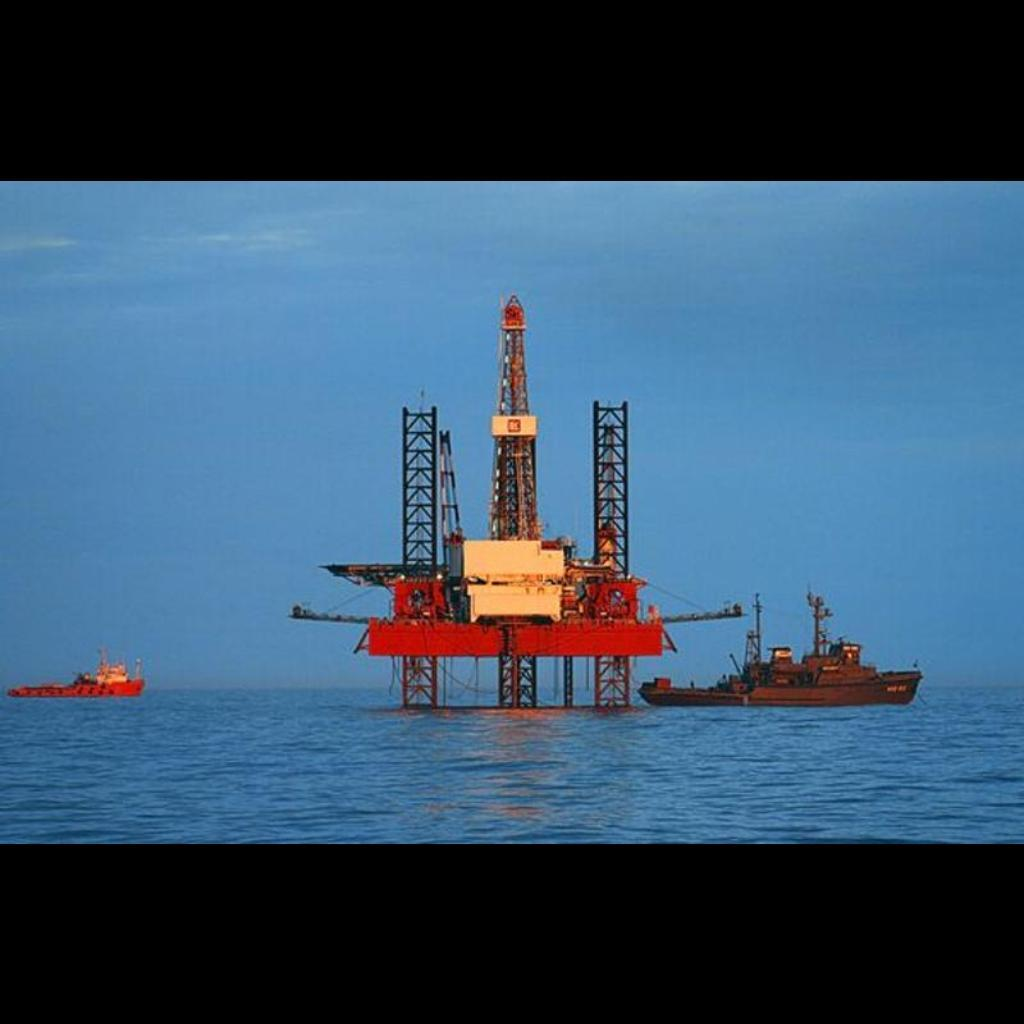Warship: (636, 593, 930, 709)
